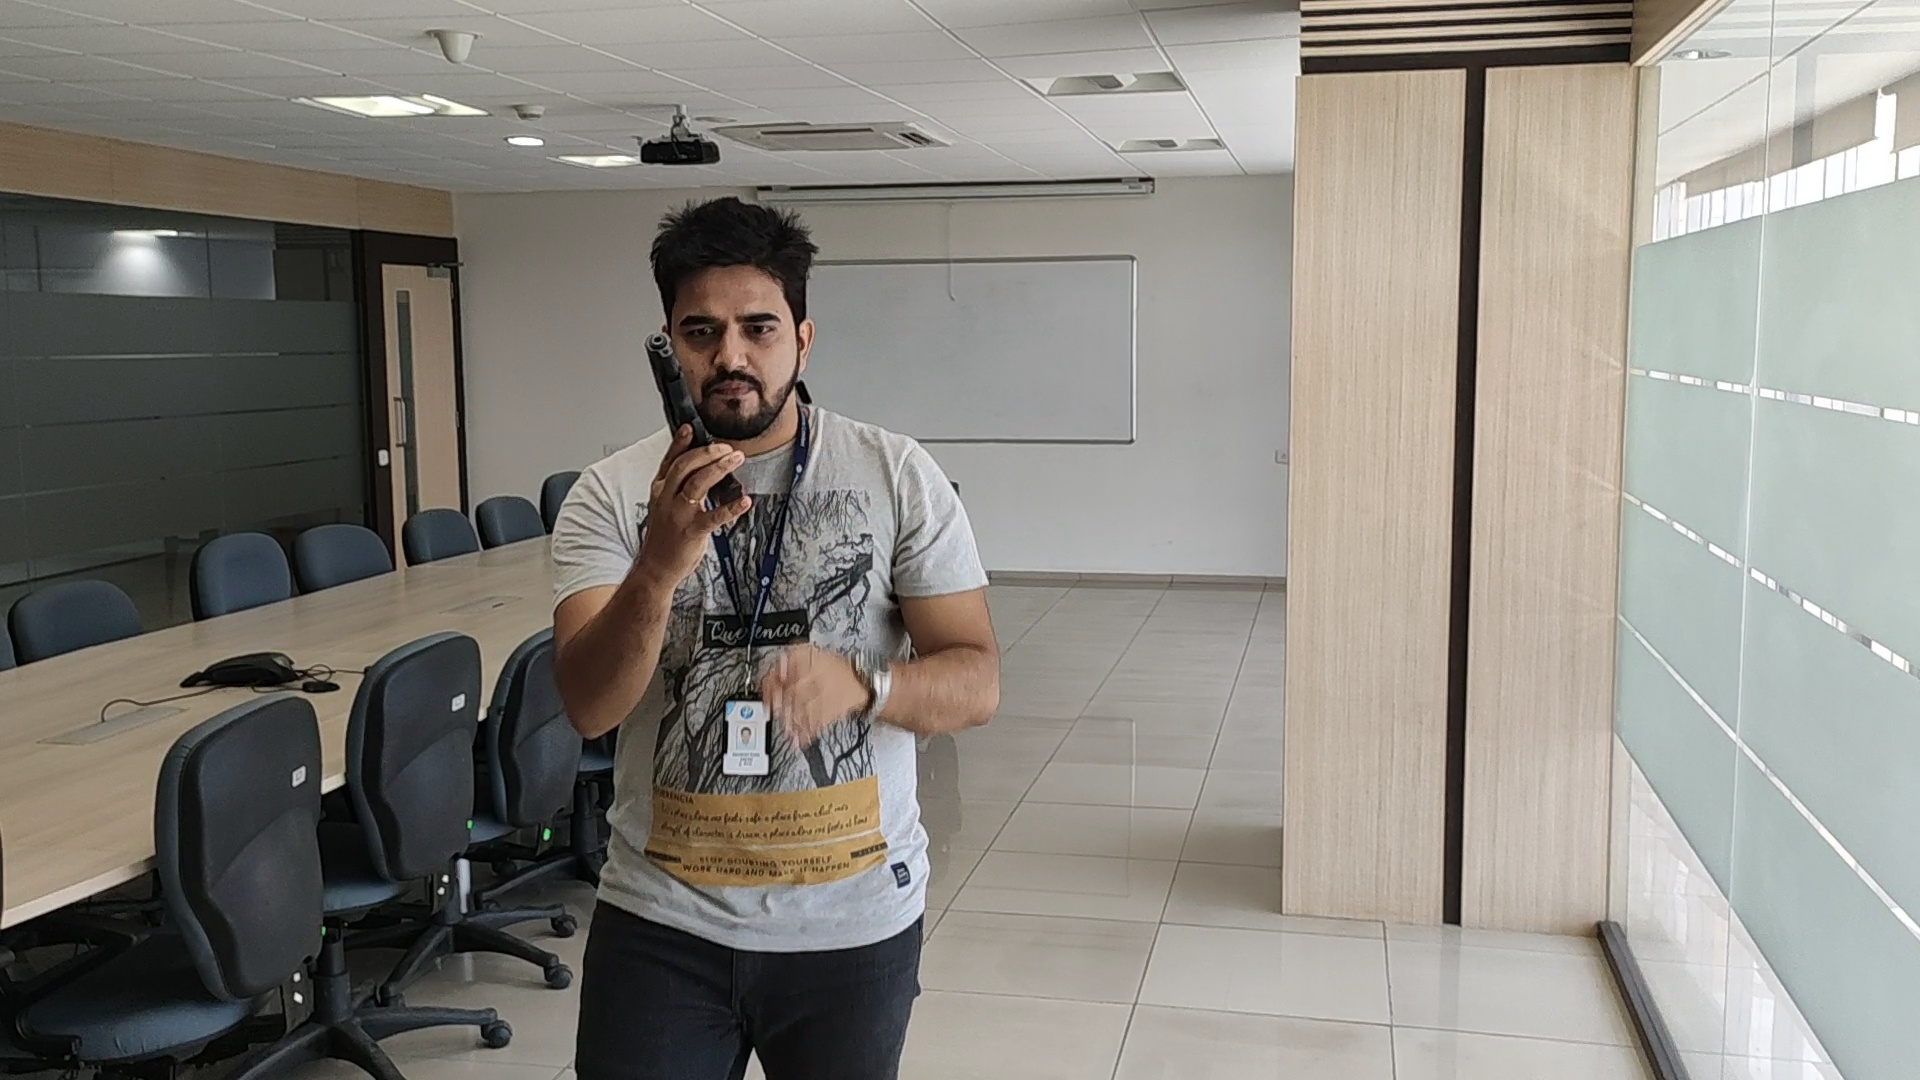gun: (644, 332, 702, 423)
